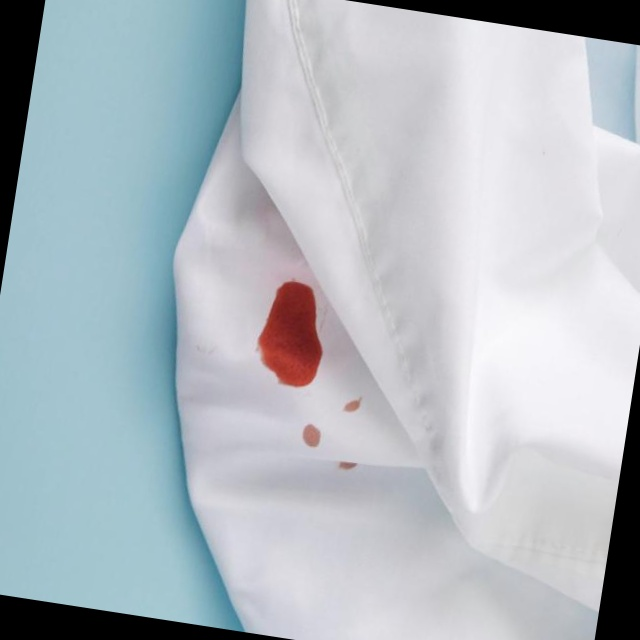blood: (247, 270, 341, 390), (292, 385, 373, 477)
